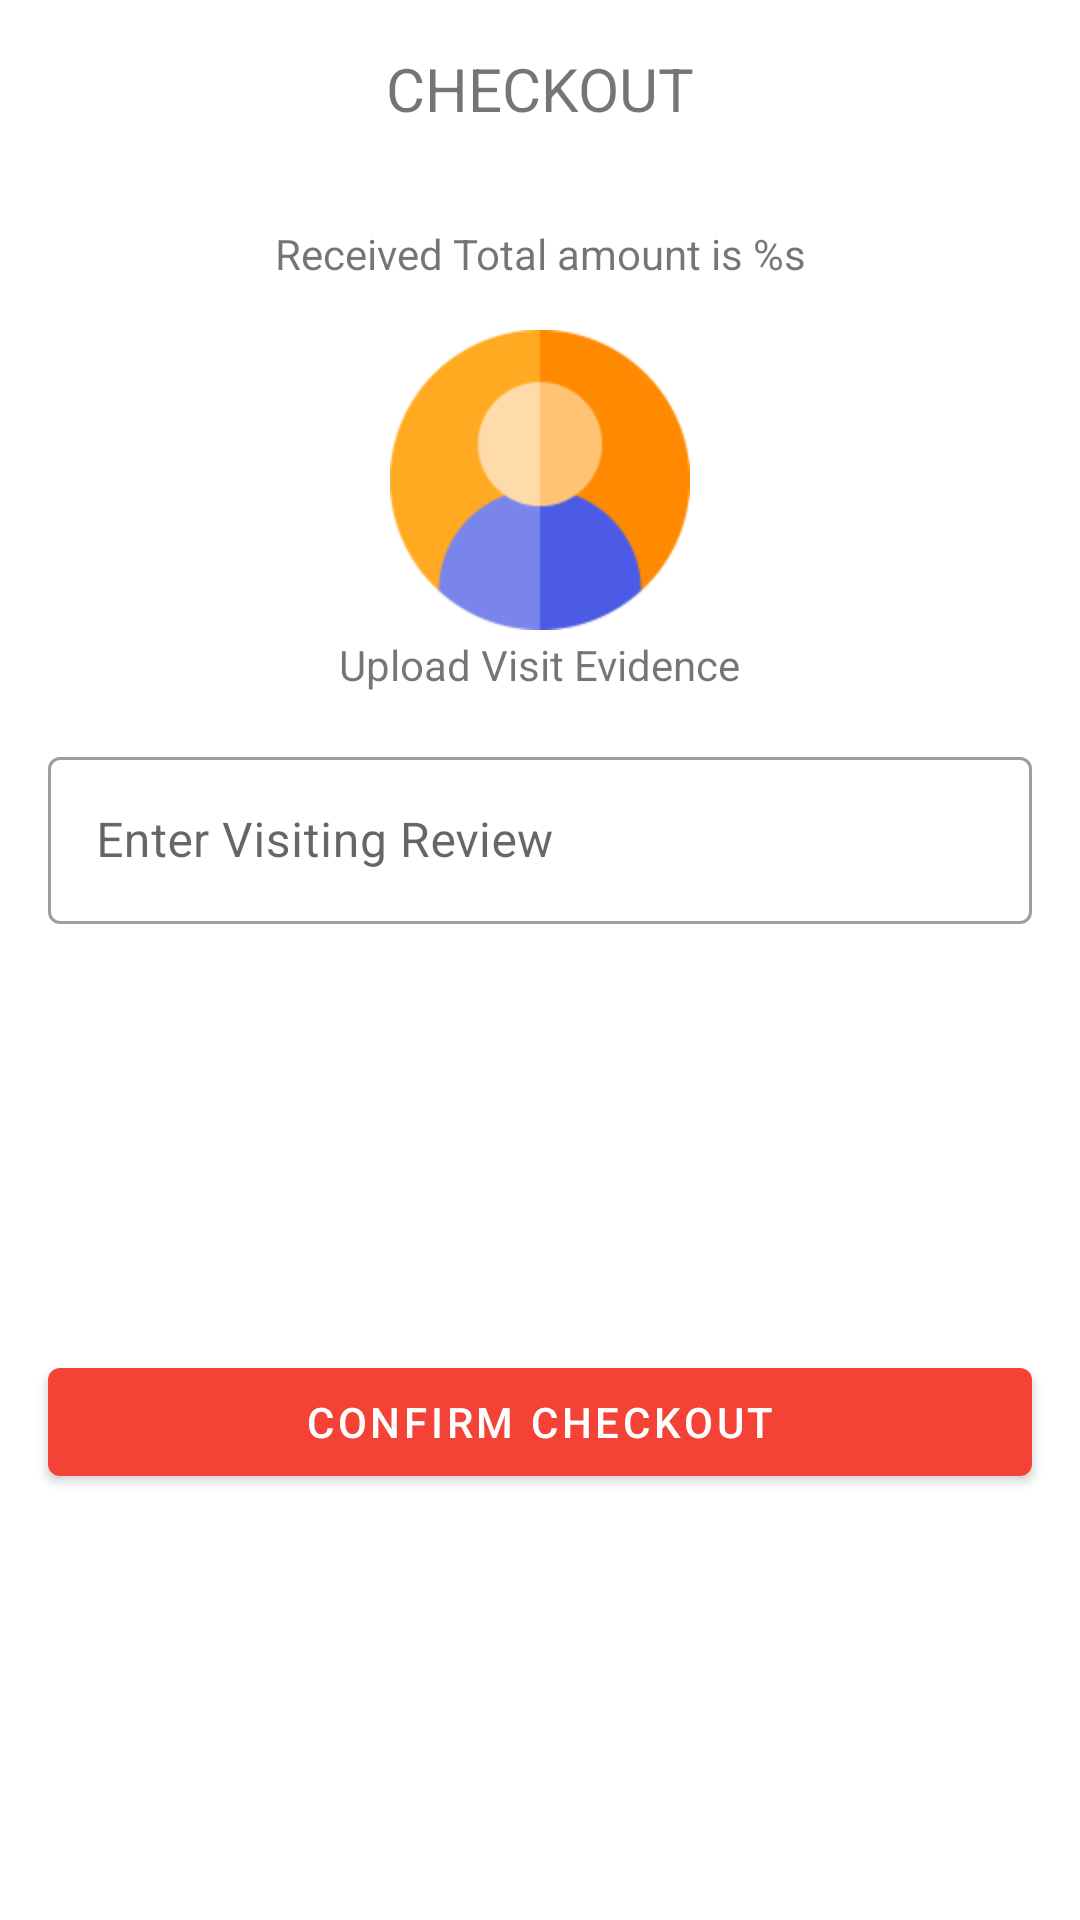

Named icons in this screenshot (1080w x 1920h) and their bounding boxes, [x1=x1, y1=y1, x2=x2, y2=y2]:
user: [x1=390, y1=330, x2=690, y2=630]
